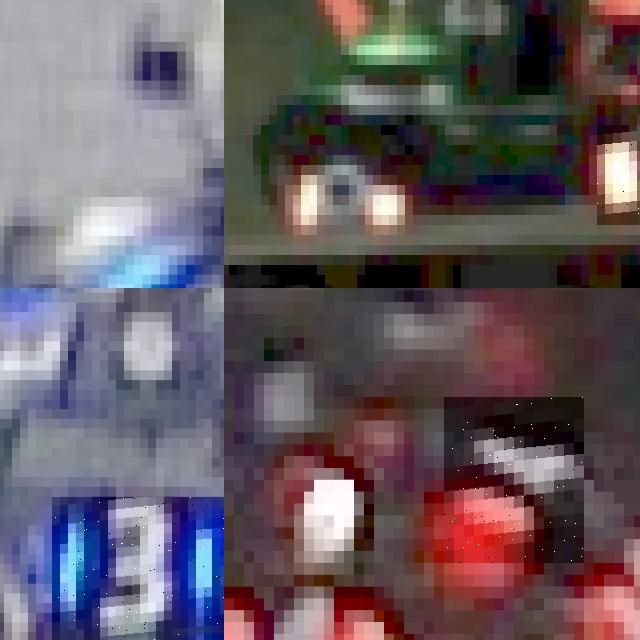B3: (52, 496, 224, 640)
R4: (444, 397, 584, 563), (224, 586, 384, 640)
Rs: (597, 125, 640, 225)
